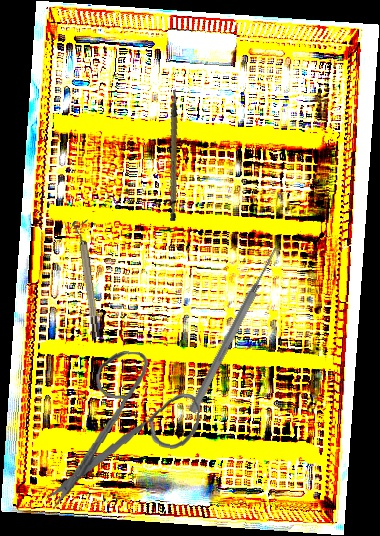Fixation Ring: (71, 219, 103, 339)
Iris Scissors: (45, 345, 205, 520)
Pusher: (186, 245, 282, 415)
Scalpel Handle: (152, 87, 198, 222)
